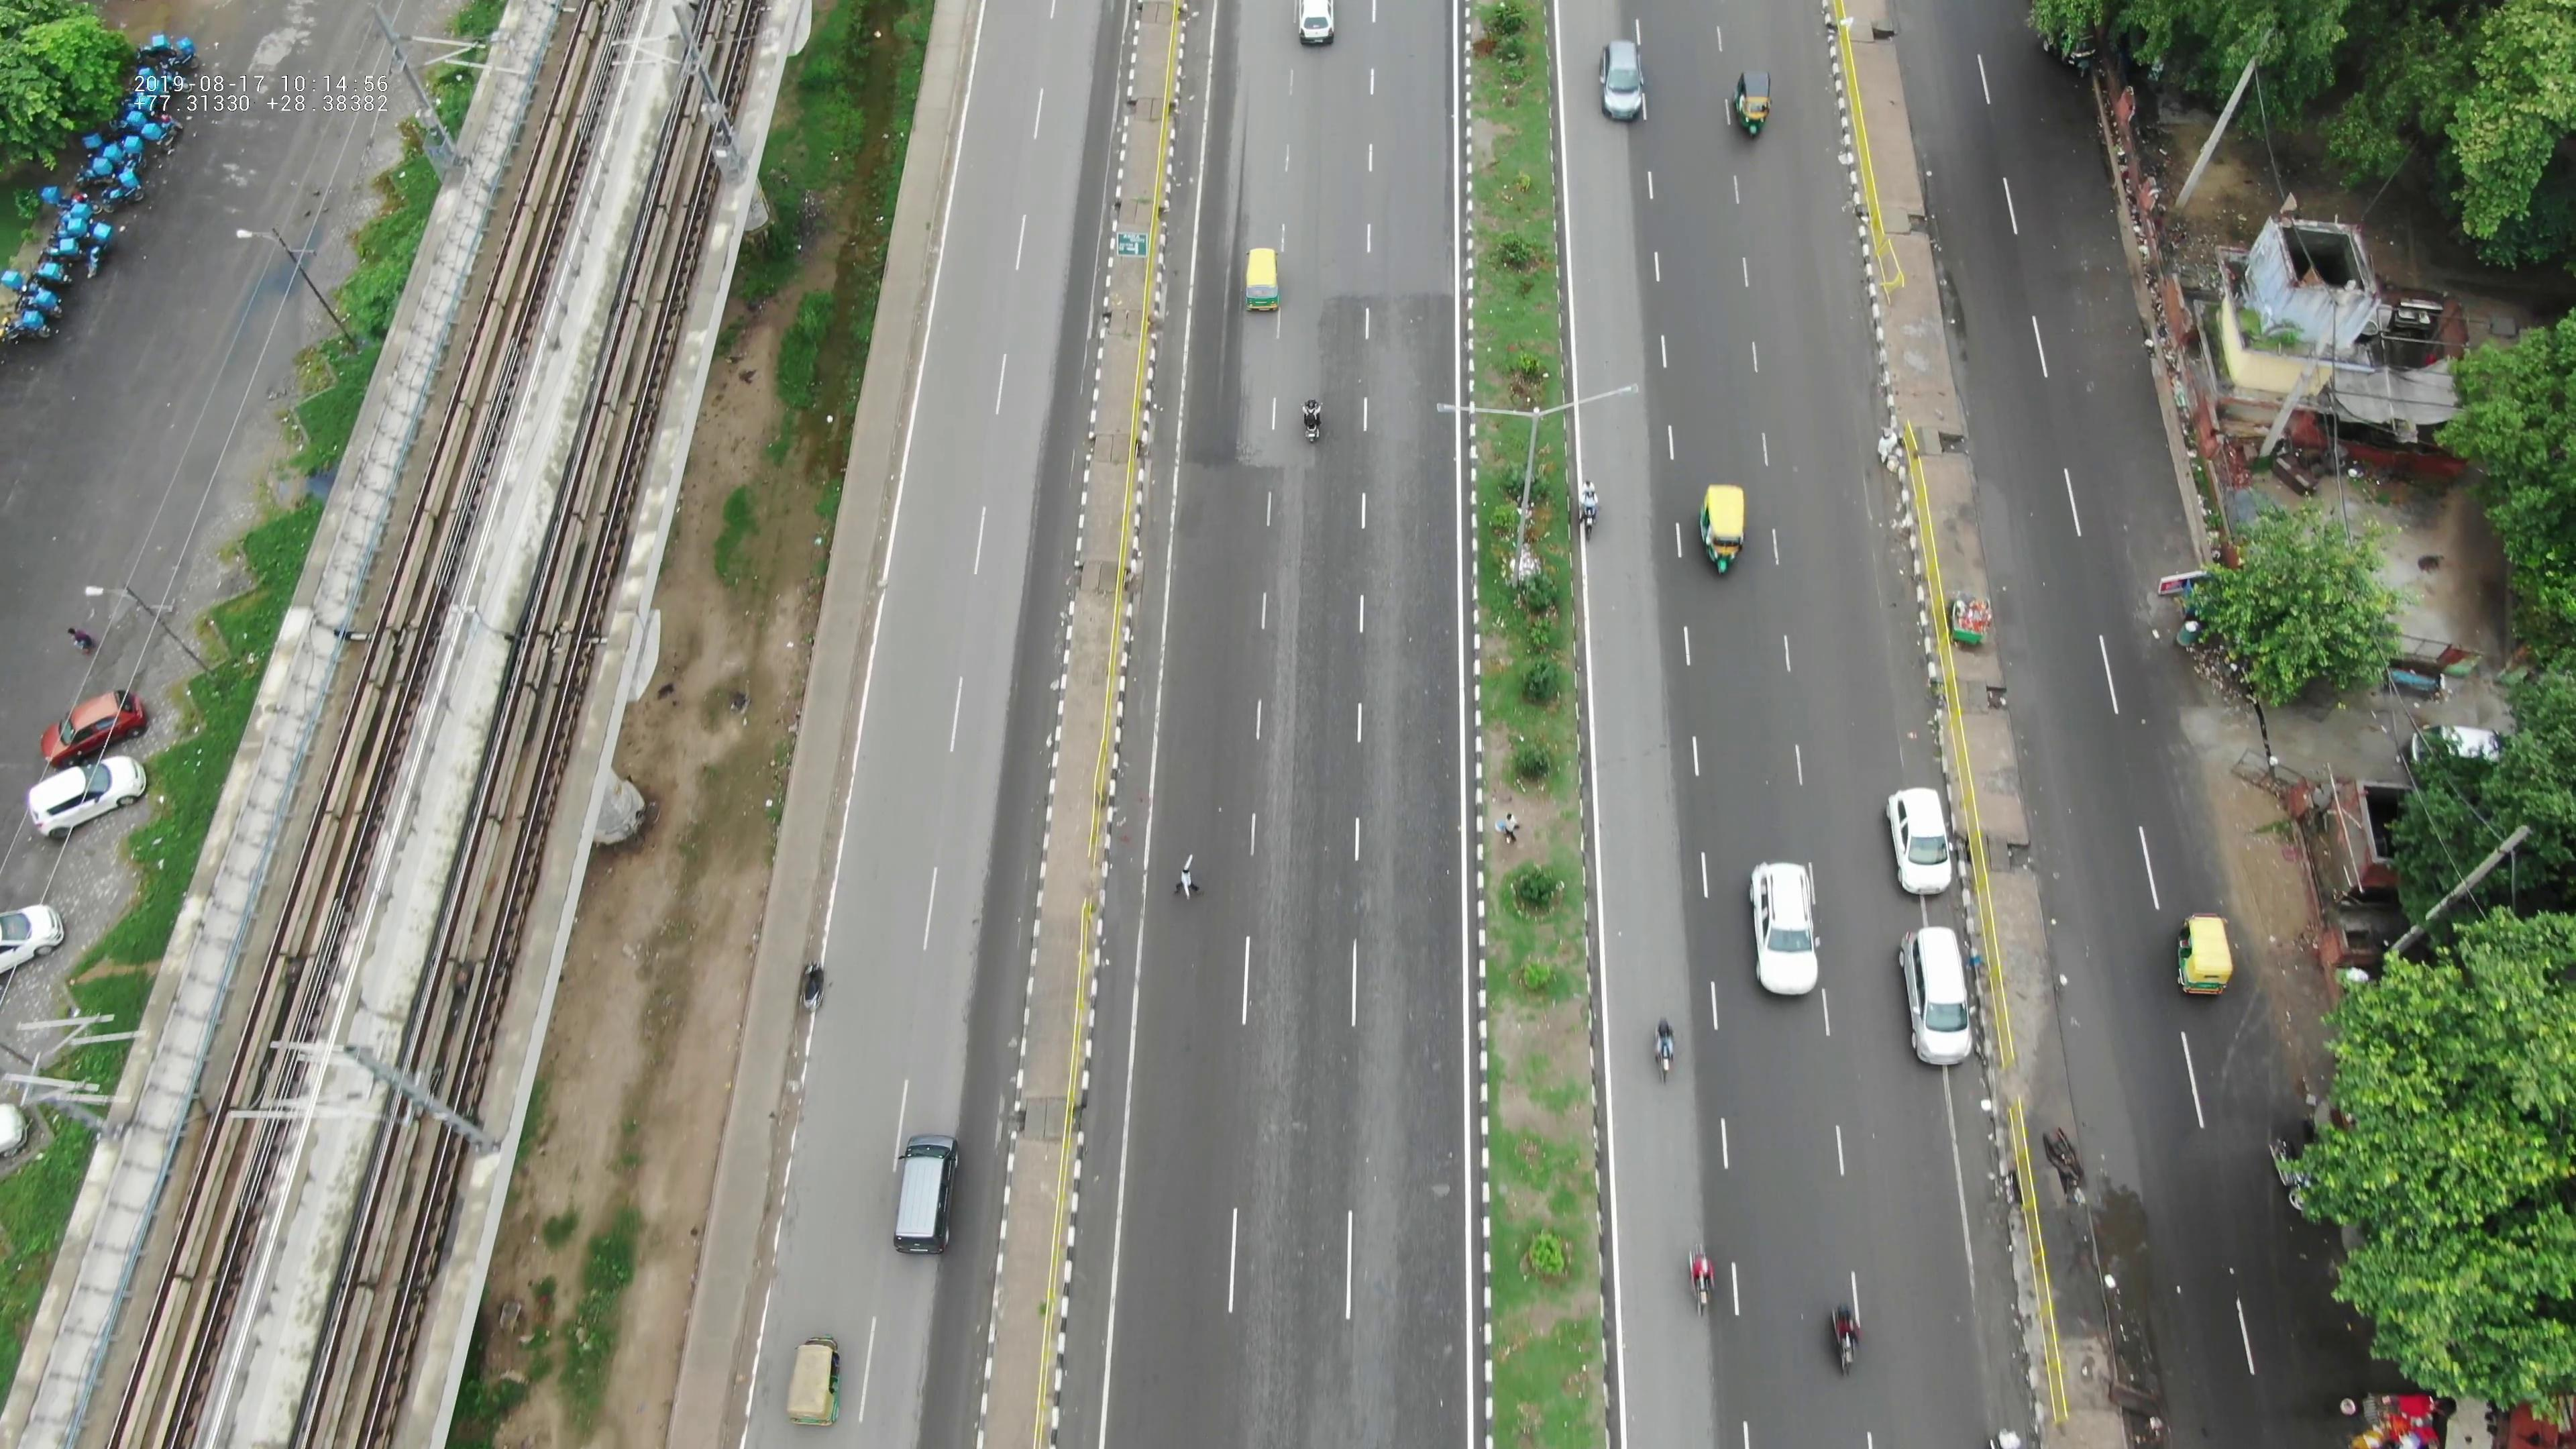Waterlogging: (2054, 1010, 2174, 1371)
